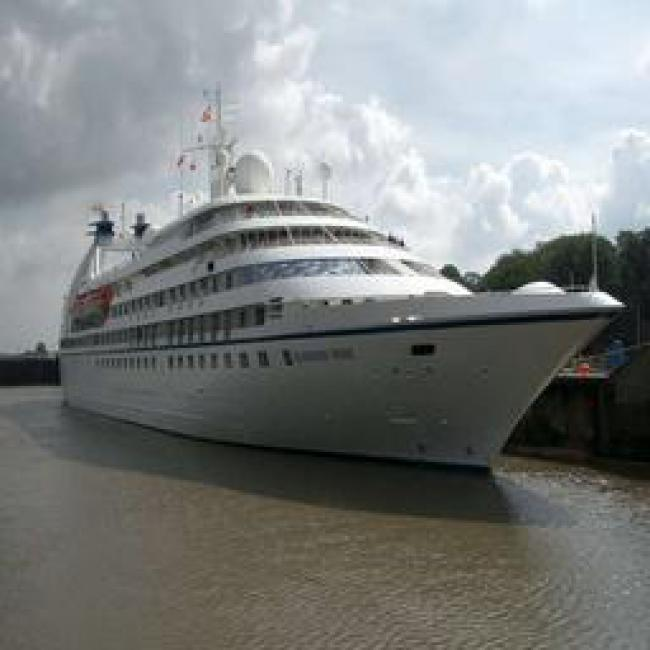Ship: (38, 194, 628, 489)
